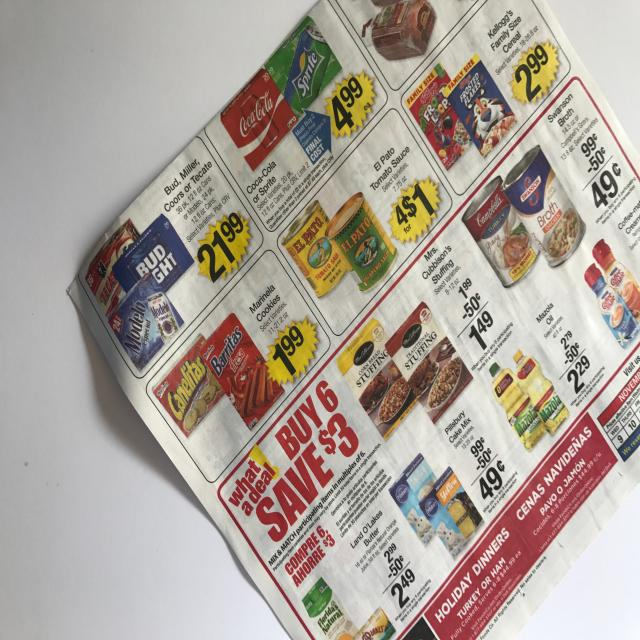paper: (66, 0, 639, 639)
